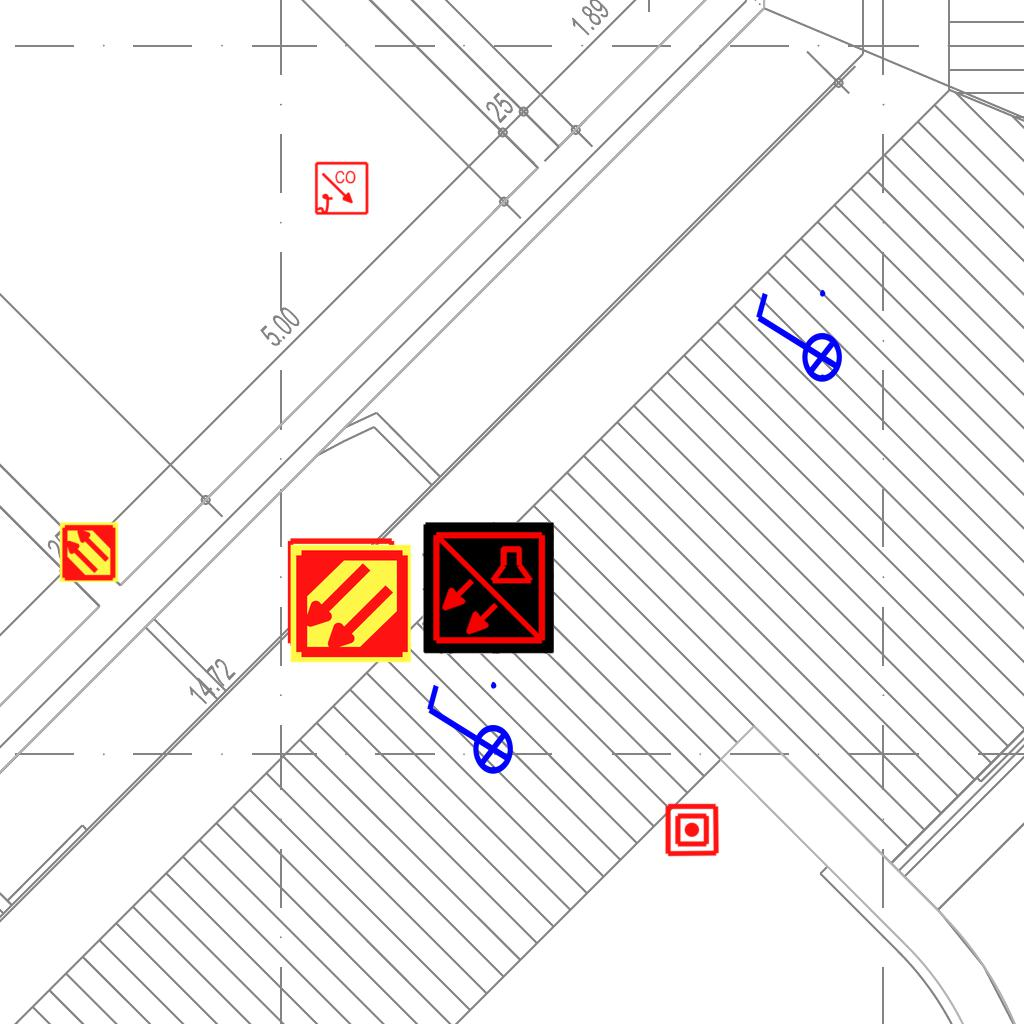ASR_Ansaugrauchmelder: (288, 541, 413, 666), (58, 521, 120, 583)
Ausschalter_beleuchtet: (748, 284, 844, 396), (419, 676, 515, 788)
NAM-Nichtautomatischer_Melder: (664, 802, 720, 858)
OKW_Multisensormelder_(Kombination_optischer_Rauch-Kahlenmonoxid_Waerme-Melder): (422, 522, 554, 654)
ROA_Rauchmelder_optisch_mit_Signalgeber_(Sockelsirene): (286, 535, 399, 648), (314, 161, 370, 217)
